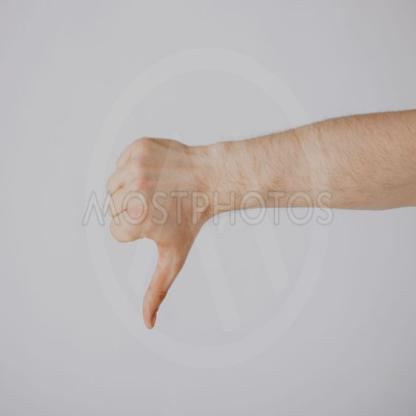Thumbs Down: (92, 97, 209, 334)
